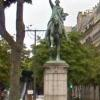Statue: (34, 2, 84, 66)
